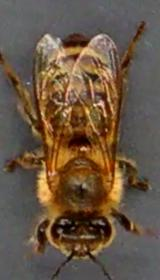varroa_mite: (64, 132, 94, 153)
